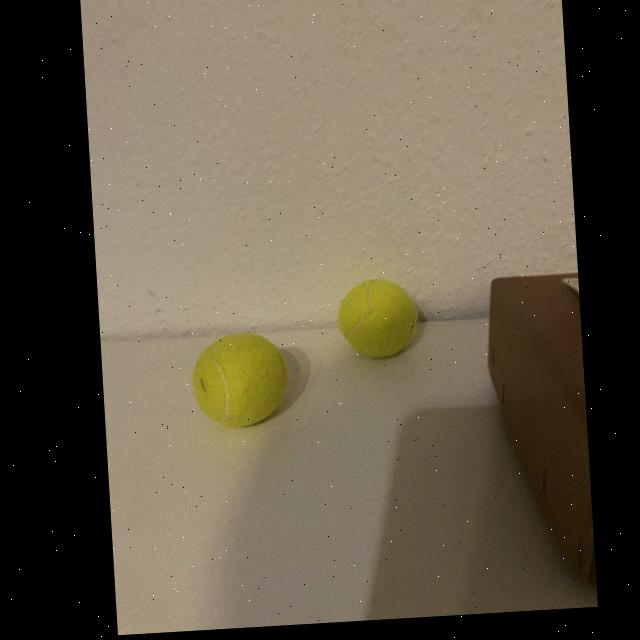Tennisball: (193, 334, 287, 427), (338, 280, 418, 358)
